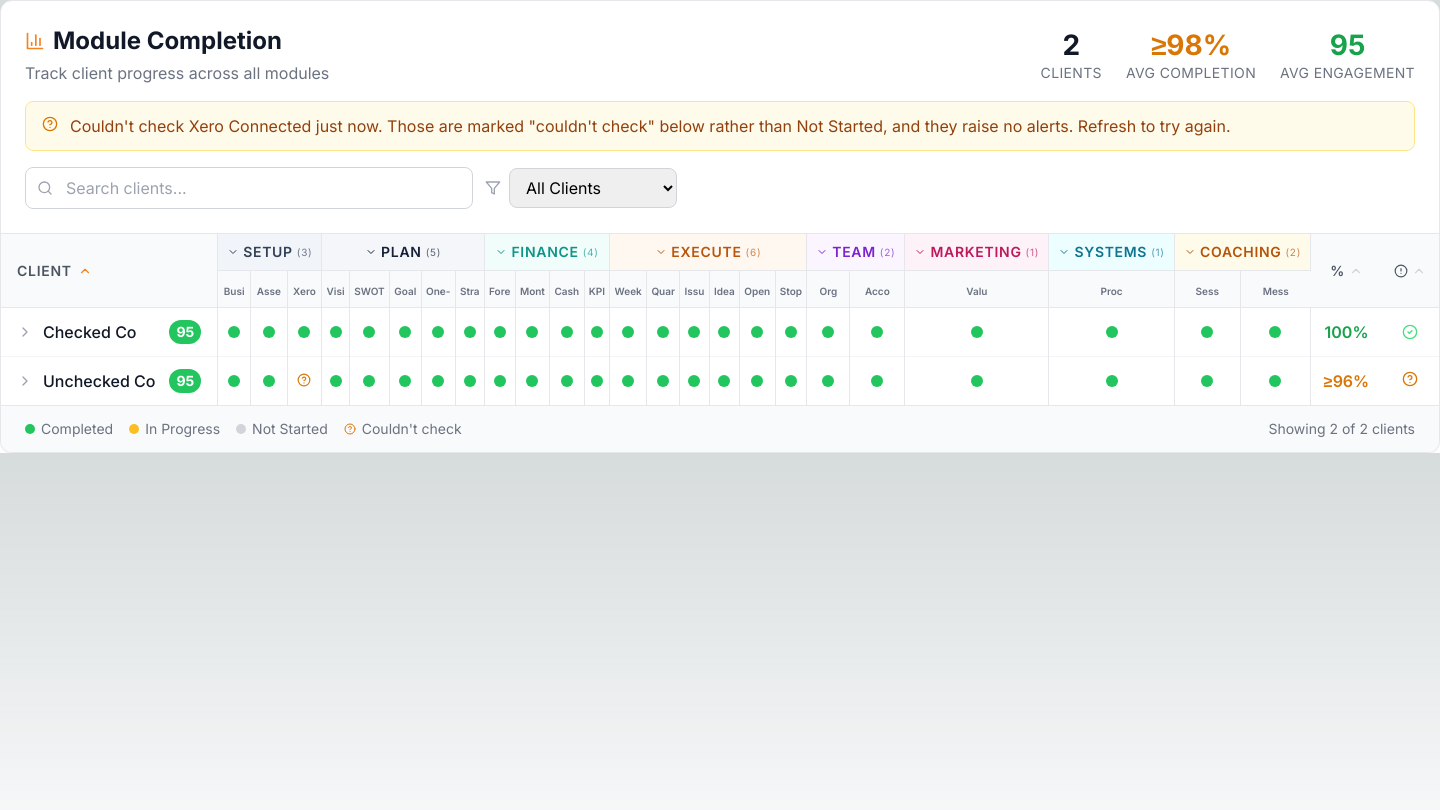
Test case: no alerts is only an all-clear when every alert rule ran › the On Track filter leaves out a client whose checks did not all run
Select "On Track" in the dropdown showing "All Clients": (593, 188) [509,168,677,208]
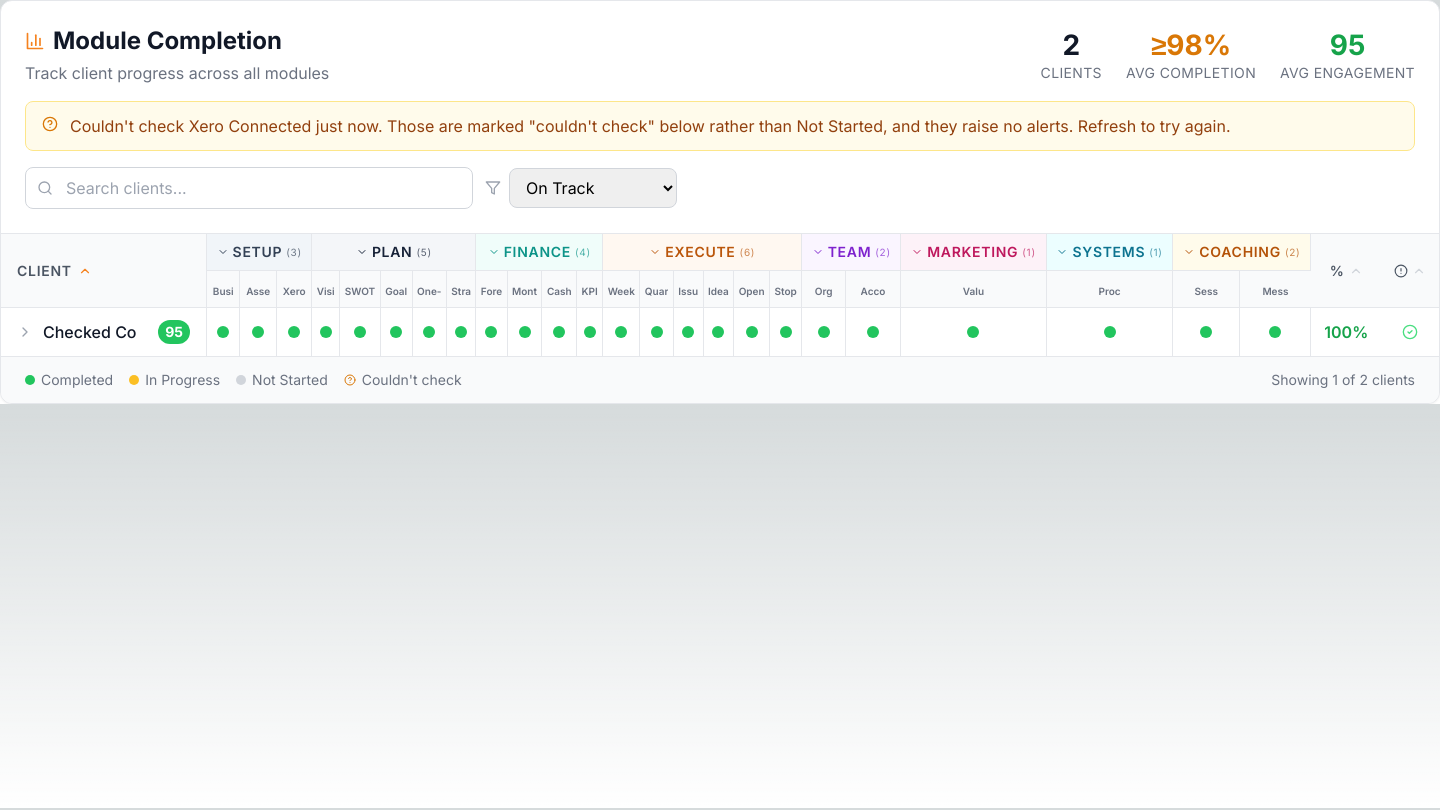
expect the text "Checked Co" is shown: met, box [43,320,148,344]
expect the text "Unchecked Co" is gone: met
